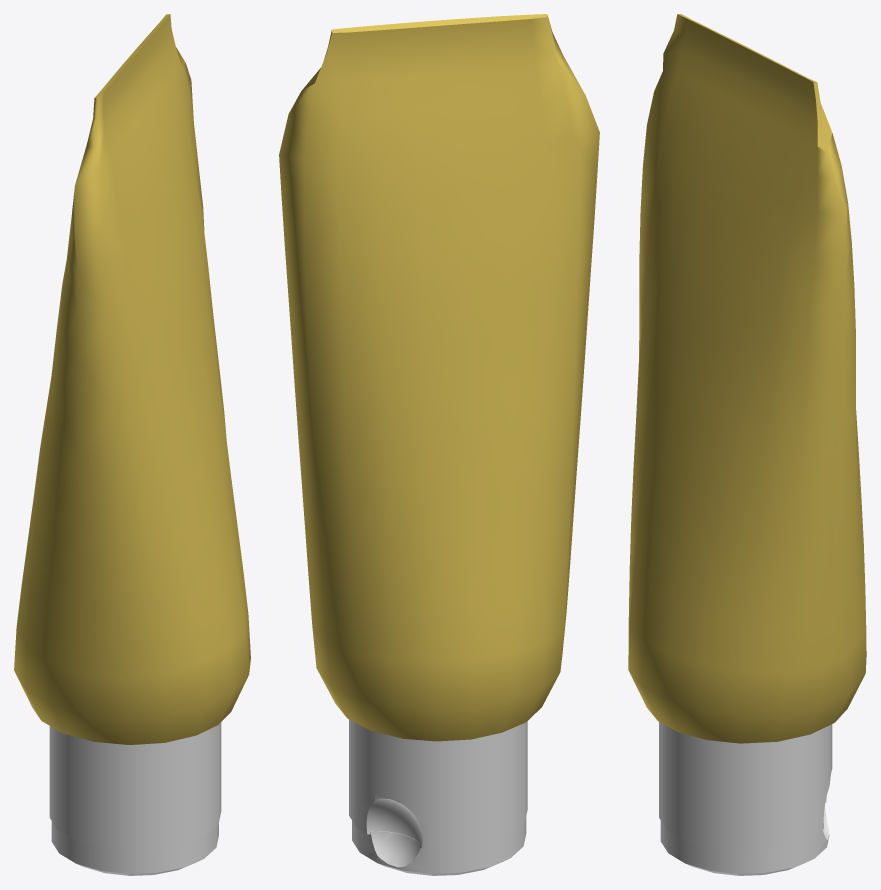
File: tubica.fbx
The picture shows the model from 3 angles, left to right: view 1: azimuth 30°, elevation 25°; view 2: azimuth 150°, elevation 25°; view 3: azimuth 270°, elevation 25°; orthographic projection. The views are drawn at different scales.
Parts seen in each view (by area): view 1: Cylinder5755, Cylinder5756, Cylinder5757; view 2: Cylinder5755, Cylinder5756, Cylinder5757; view 3: Cylinder5755, Cylinder5756, Cylinder5757.
Part boxes in pixels (x1,y1,x2,y2): Cylinder5755: (14,14,250,744); Cylinder5756: (49,722,221,850); Cylinder5757: (51,821,218,875); Cylinder5755: (279,14,599,741); Cylinder5756: (349,719,527,849); Cylinder5757: (352,817,526,875); Cylinder5755: (628,14,866,743); Cylinder5756: (659,722,832,850); Cylinder5757: (660,806,829,875).
Bounding box in the file's own units: 47.61 × 171 × 46.14.
